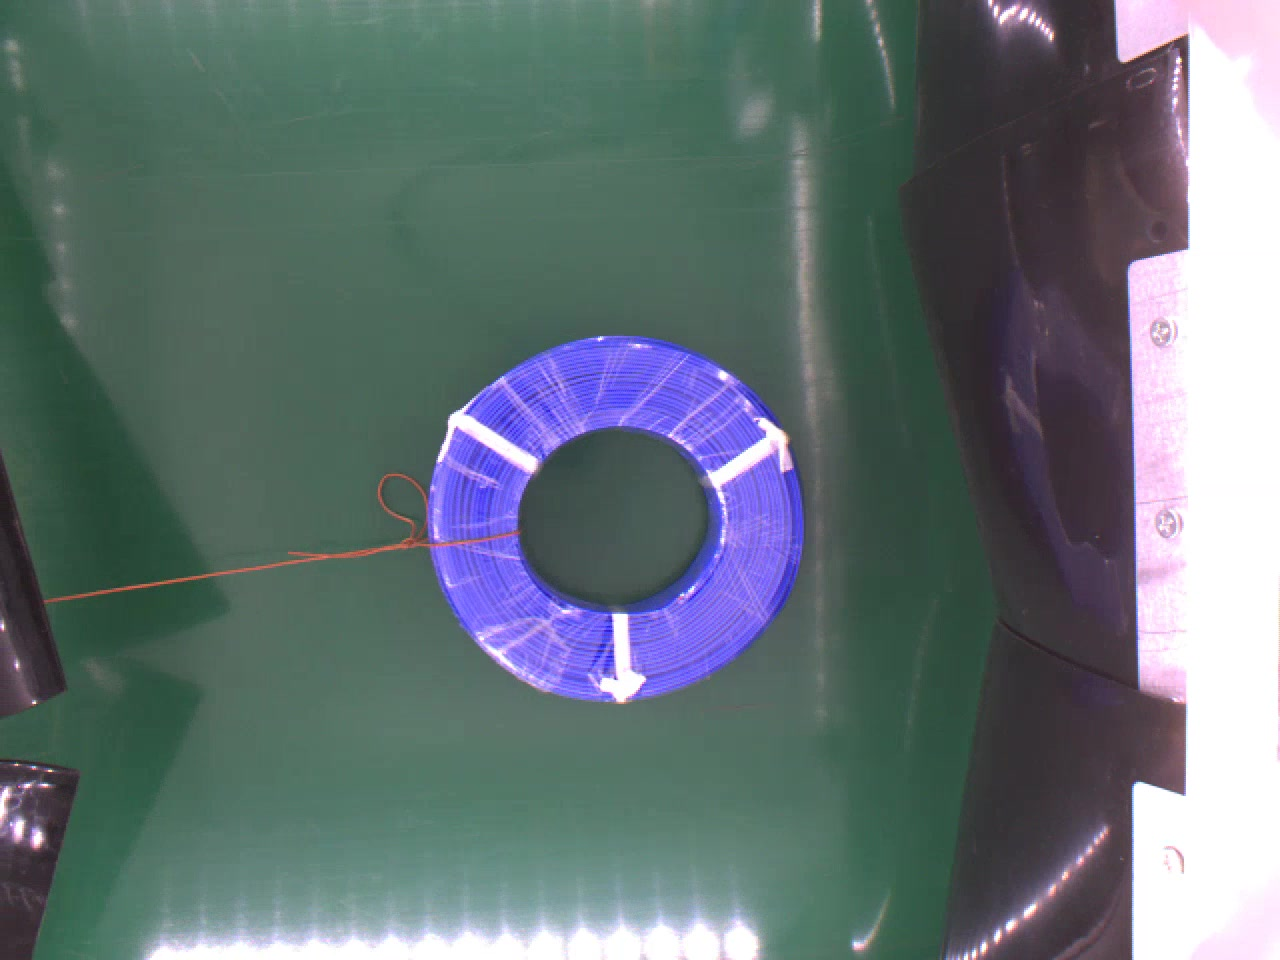blue: (426, 332, 806, 702)
